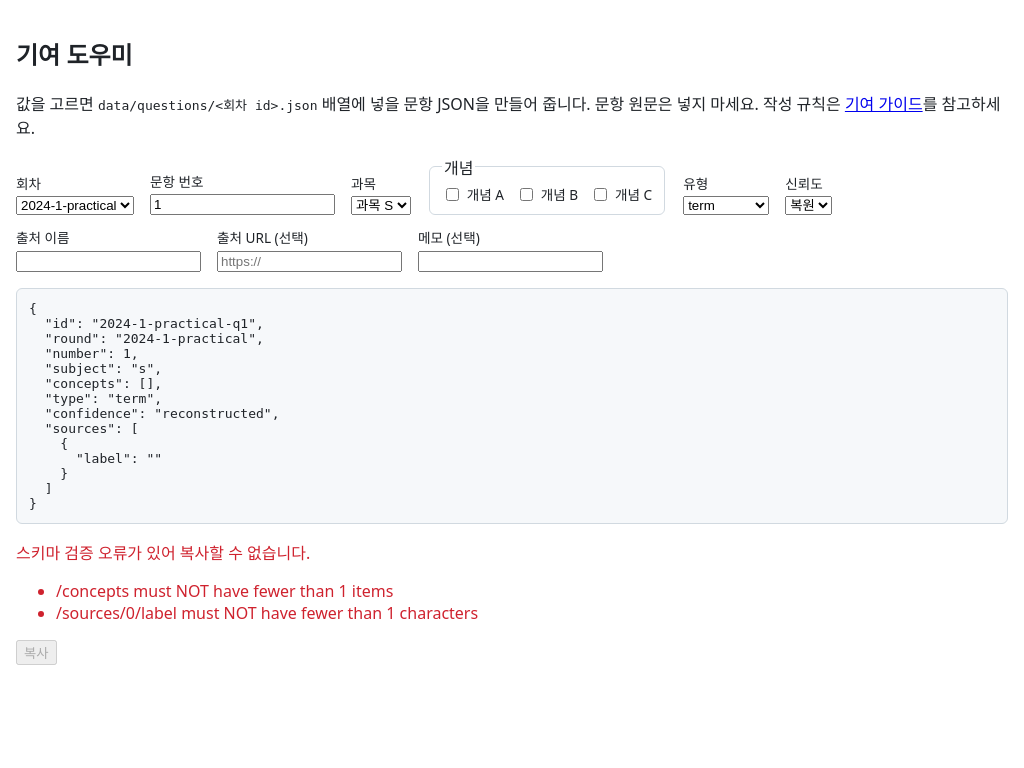
AC-TREND2-007 snippet helper › valid input shows schema-valid JSON and enables copy; clearing the source disables it
The image size is (1024, 768).
Select "2023-2-practical" in the dropdown labelled "회차" at (75, 206), box [16,196,134,215]
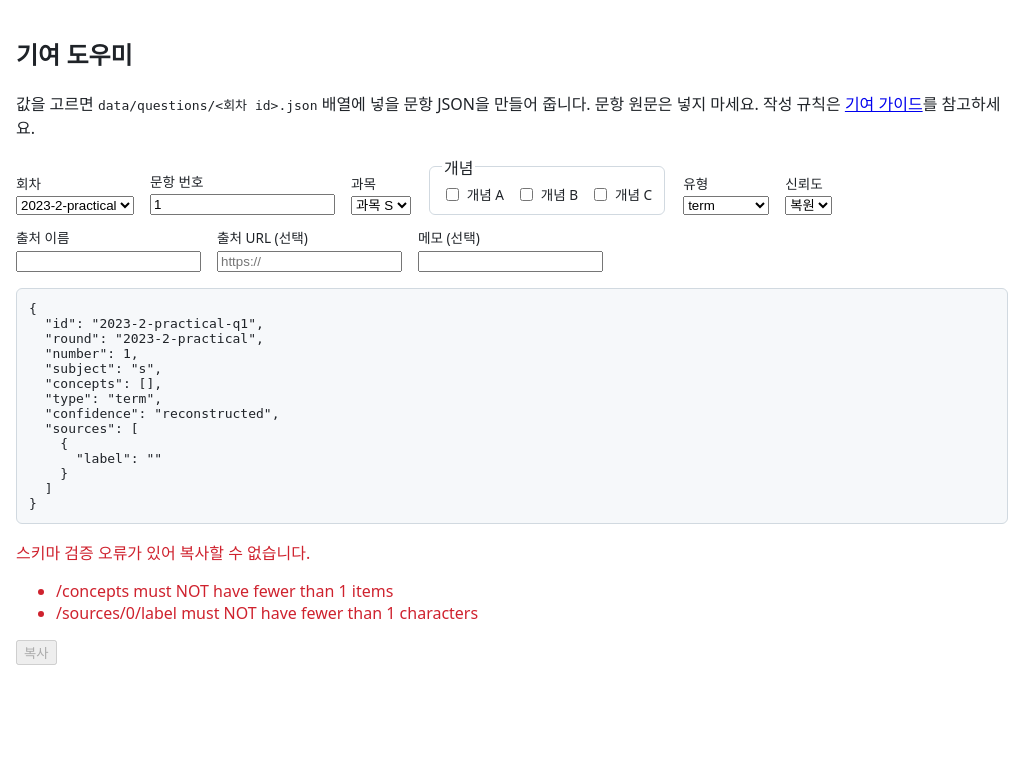
Replace the text in the number field labelled "문항 번호" with "4" at (242, 205), box [150,194,335,215]
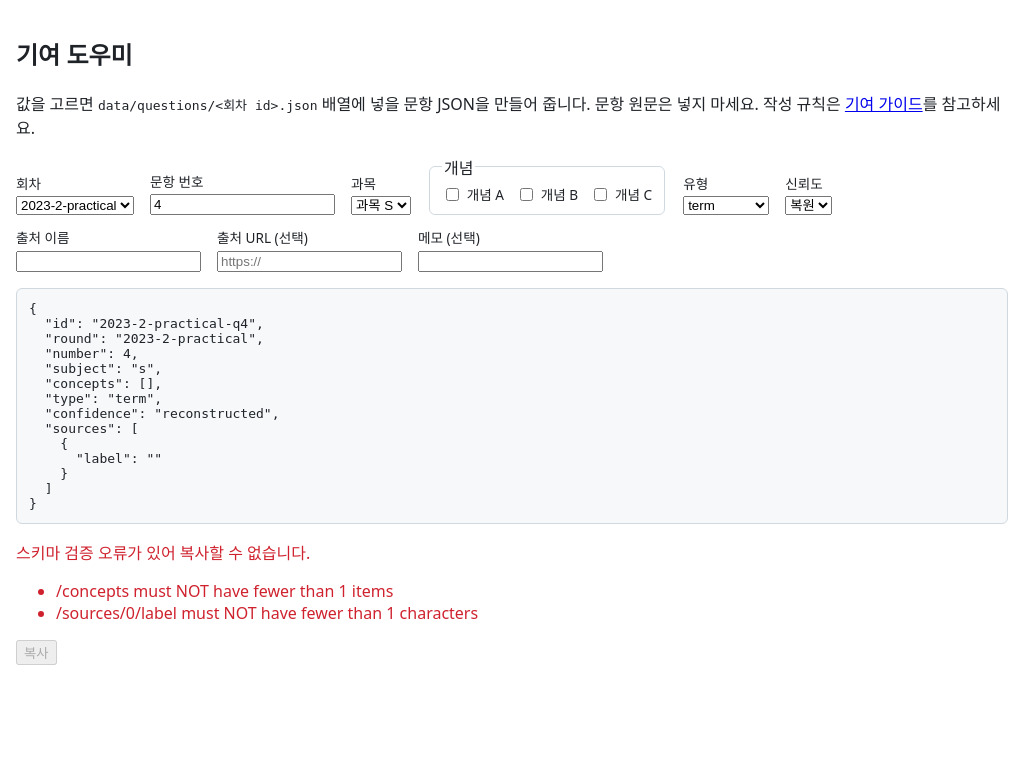
Select "과목 S" in the dropdown labelled "과목" at (381, 206), box [351,196,411,215]
Click the checkbox labelled "개념 B" at (526, 194), box [520,188,533,201]
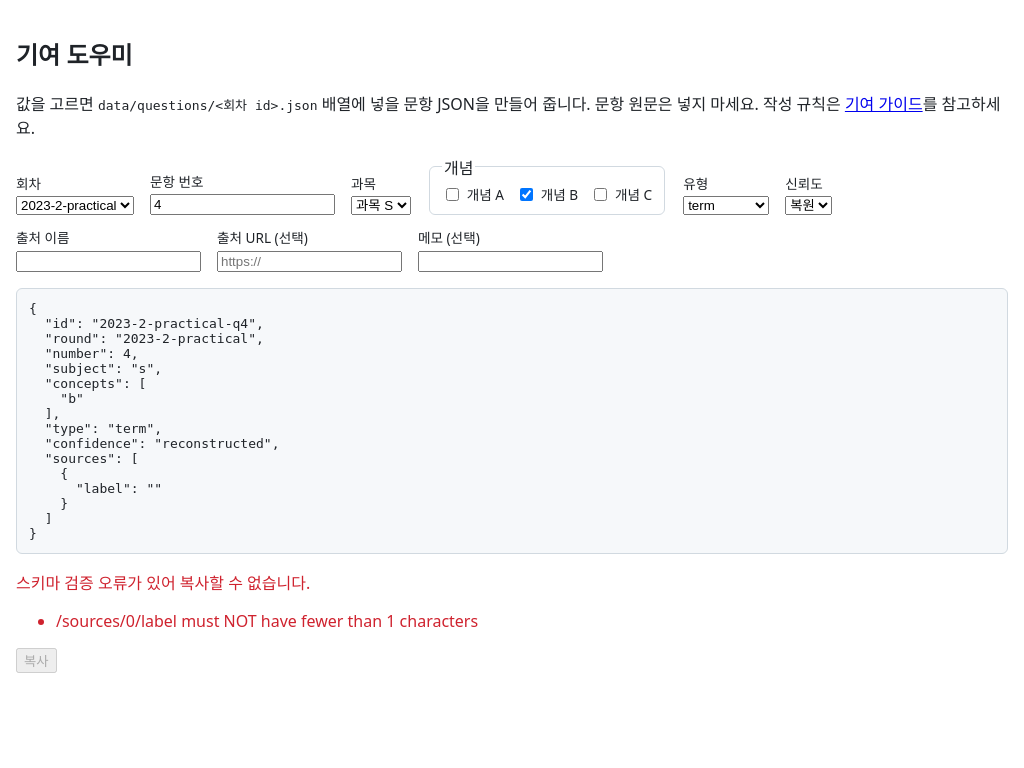
Select "sql" in the dropdown labelled "유형" at (726, 206), box [683,196,769,215]
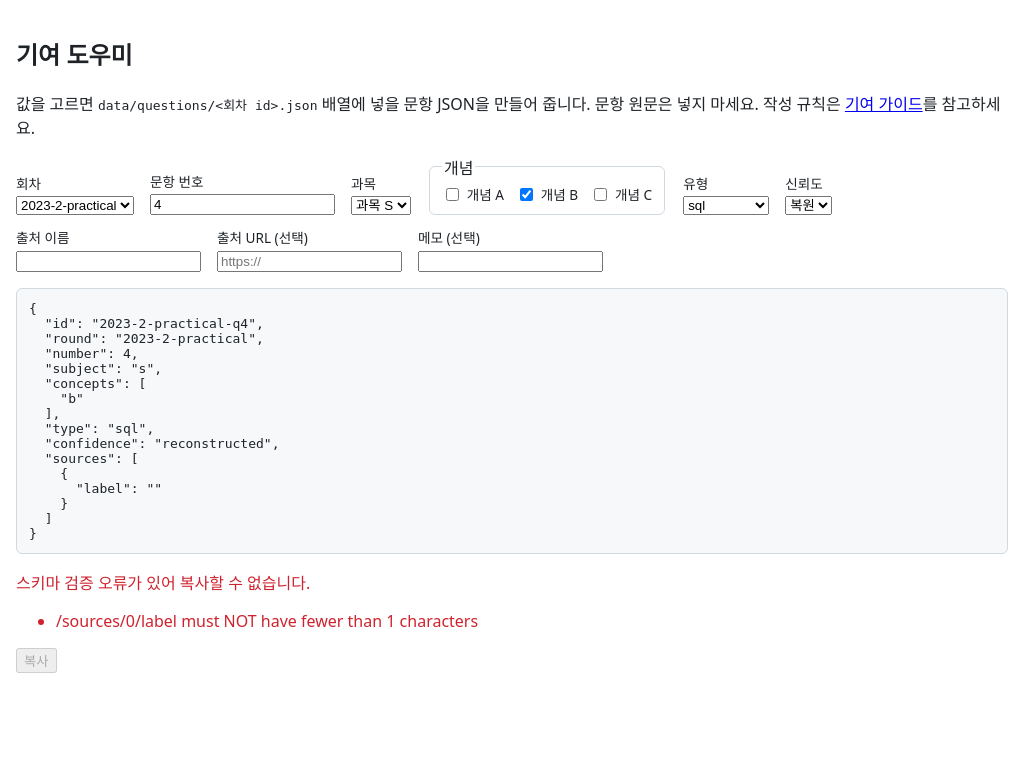
Select "복원" in the dropdown labelled "신뢰도" at (809, 206), box [785,196,832,215]
Type "복원본 모음" into the field labelled "출처 이름" at (108, 261), box [16,251,201,272]
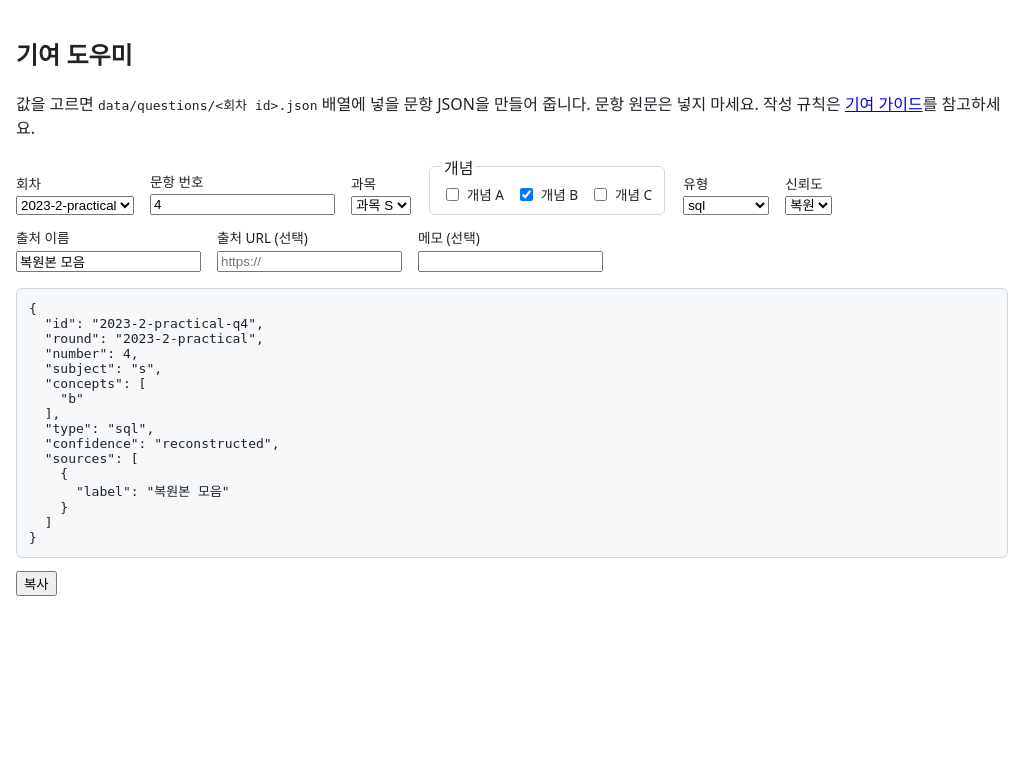
Result: the message is gone
Result: the button "복사" is enabled at [16,571,56,596]
Clear the field labelled "출처 이름" at (108, 261), box [16,251,201,272]
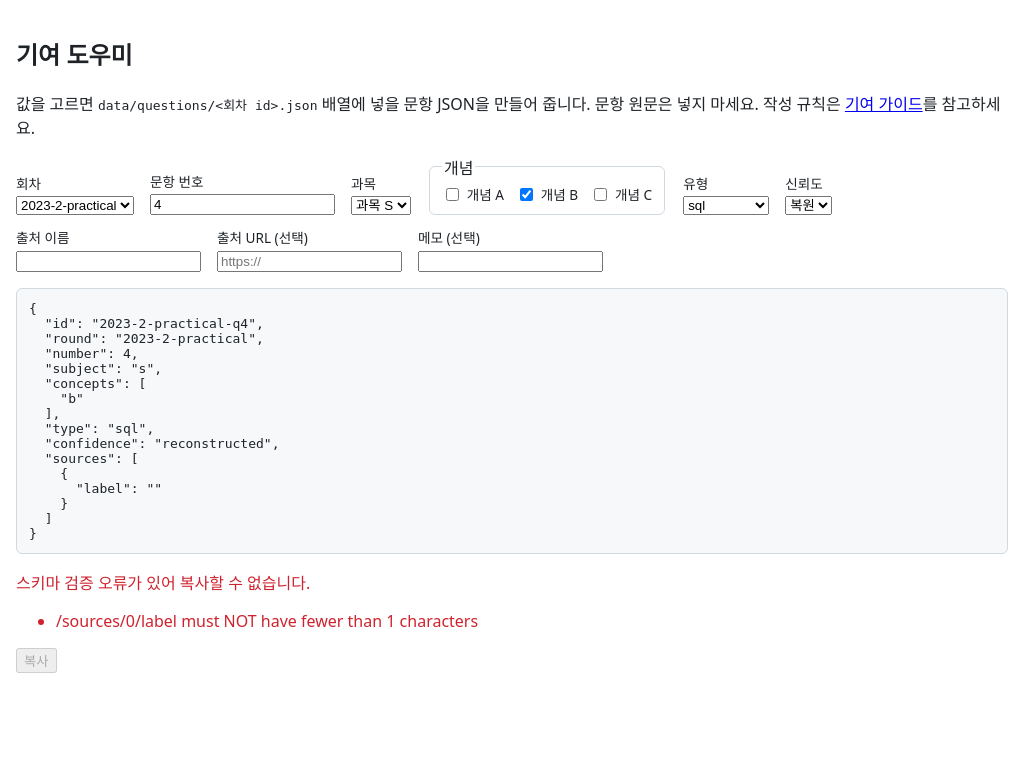
Result: the message shows "sources" at [56,610,478,632]
Result: the button "복사" is disabled at [16,648,56,673]
